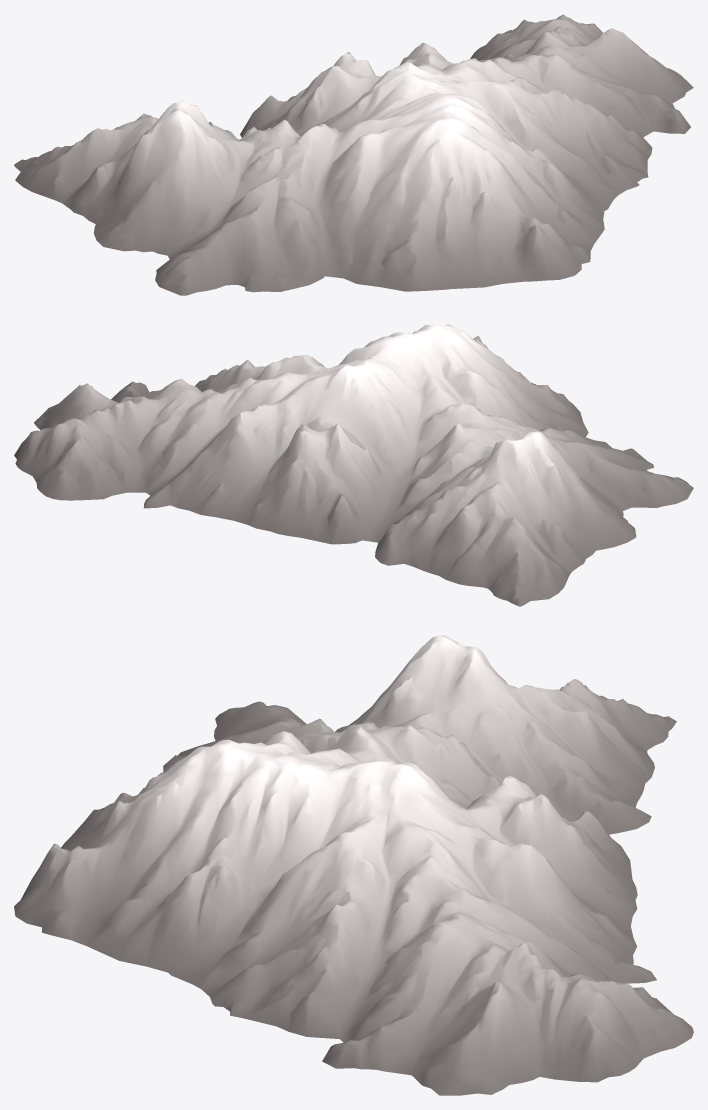
File: Mountain_01.glb
3 views of the same model, one above another, from view 1: azimuth 30°, elevation 25°; view 2: azimuth 150°, elevation 25°; view 3: azimuth 270°, elevation 25° (orthographic). The views are drawn at different scales.
Parts seen in each view (by area): view 1: Mountain_01; view 2: Mountain_01; view 3: Mountain_01.
Boxes of the visible parts, box(x1,y1,x2,y2) form: Mountain_01: box(14, 14, 693, 295); Mountain_01: box(14, 324, 693, 606); Mountain_01: box(14, 635, 693, 1095).
Size of the model in its own units: 83.26 by 14.28 by 62.09.
Materials: 1 (1 with a texture image).
